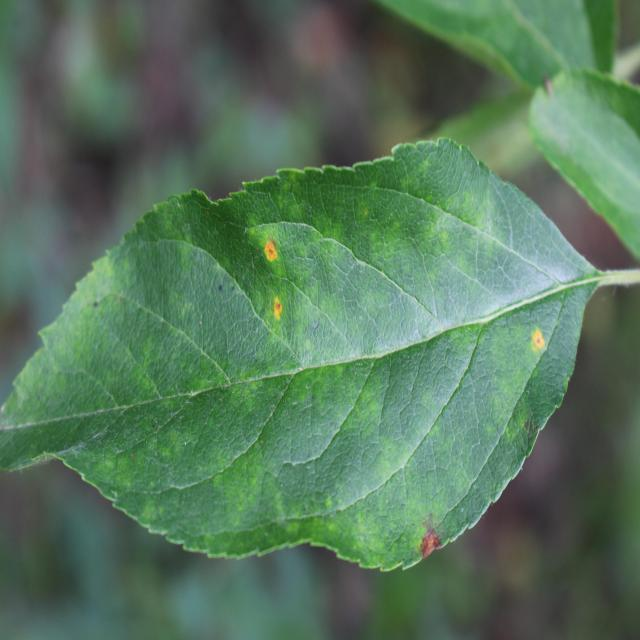Rust: (403, 520, 449, 570), (521, 306, 555, 368), (258, 222, 285, 278), (262, 286, 290, 329)
